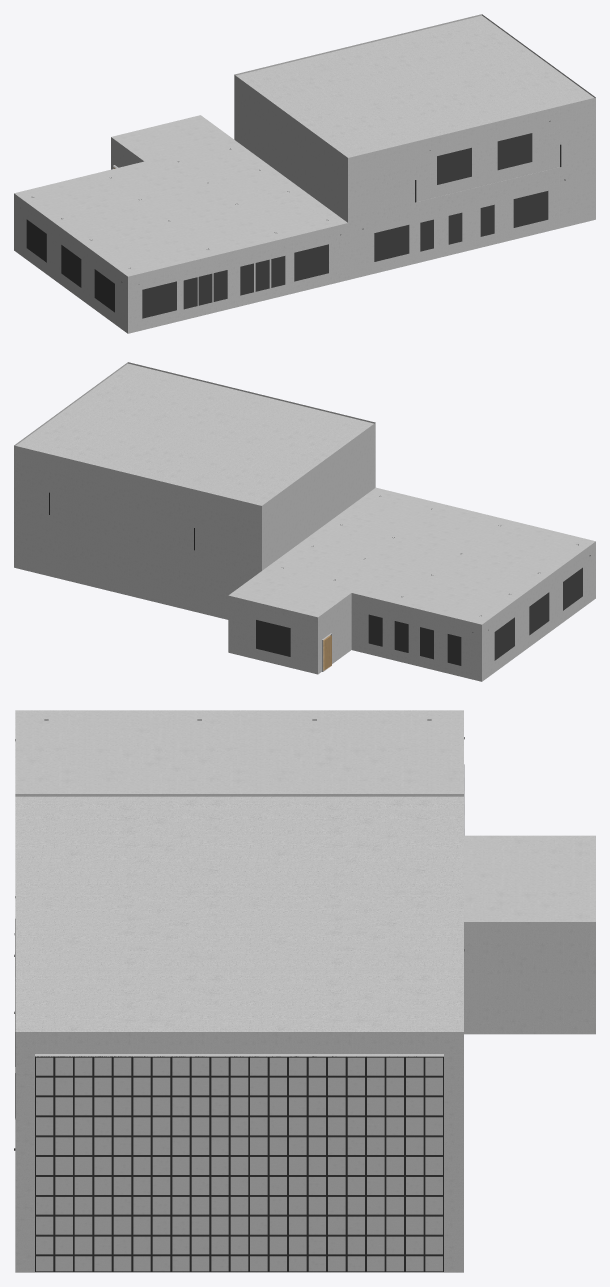
File: Gallery_05.fbx
3 renders of one model, top to bottom at view 1: azimuth 30°, elevation 25°; view 2: azimuth 150°, elevation 25°; view 3: azimuth 270°, elevation 25°, orthographic. The views are drawn at different scales.
Parts seen in each view (by area): view 1: Walls, Roof_002, Roof_001, Art_Work_Frame_01, Art_Work_Frame_28, Art_Work_Frame_29, Art_Work_Frame_27, Art_Work_Frame_02, Art_Work_Frame_26, Art_Work_Frame_25, Art_Work_Frame_23, Art_Work_Frame_24 (+7 smaller); view 2: Walls, Roof_002, Roof_001, Art_Work_Frame_09, Art_Work_Frame_23, Art_Work_Frame_24, Art_Work_Frame_25, Art_Work_Frame_11, Art_Work_Frame_10, Art_Work_Frame_13; view 3: Roof_001, Window, Roof_002, Walls.
Boxes of the visible parts, left/top/right/bottom form: Walls: left=14, top=14, right=595, bottom=333; Roof_002: left=14, top=115, right=347, bottom=276; Roof_001: left=236, top=15, right=593, bottom=157; Art_Work_Frame_01: left=497, top=133, right=532, bottom=170; Art_Work_Frame_28: left=374, top=225, right=409, bottom=261; Art_Work_Frame_29: left=513, top=191, right=548, bottom=227; Art_Work_Frame_27: left=294, top=244, right=328, bottom=281; Art_Work_Frame_02: left=437, top=147, right=471, bottom=184; Art_Work_Frame_26: left=142, top=281, right=176, bottom=318; Art_Work_Frame_25: left=94, top=269, right=114, bottom=312; Art_Work_Frame_23: left=26, top=219, right=46, bottom=262; Art_Work_Frame_24: left=61, top=245, right=81, bottom=287; Walls: left=14, top=362, right=595, bottom=681; Roof_002: left=228, top=487, right=595, bottom=624; Roof_001: left=16, top=363, right=373, bottom=505; Art_Work_Frame_09: left=256, top=620, right=290, bottom=656; Art_Work_Frame_23: left=494, top=617, right=514, bottom=660; Art_Work_Frame_24: left=529, top=592, right=549, bottom=635; Art_Work_Frame_25: left=563, top=567, right=582, bottom=610; Art_Work_Frame_11: left=394, top=621, right=408, bottom=652; Art_Work_Frame_10: left=368, top=614, right=382, bottom=646; Art_Work_Frame_13: left=447, top=634, right=461, bottom=665; Roof_001: left=15, top=796, right=463, bottom=1031; Window: left=35, top=1056, right=443, bottom=1271; Roof_002: left=15, top=710, right=595, bottom=921; Walls: left=15, top=794, right=595, bottom=1272.
Size of the model in its own units: 3415 by 846 by 1855.
